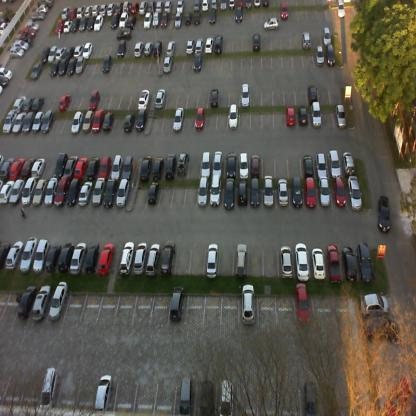car: (385, 375, 412, 413), (363, 314, 401, 340), (355, 238, 375, 284), (39, 366, 58, 414), (31, 282, 52, 322), (48, 280, 68, 321), (16, 283, 38, 320), (94, 374, 114, 414), (326, 240, 342, 285), (294, 281, 310, 325), (20, 234, 38, 273), (241, 281, 256, 327), (70, 238, 88, 275), (294, 239, 310, 280), (359, 293, 390, 314), (341, 244, 358, 282), (4, 240, 24, 272), (32, 237, 49, 274), (169, 284, 185, 323), (119, 238, 135, 276), (160, 239, 176, 276), (145, 242, 162, 276), (218, 379, 234, 415), (97, 243, 114, 276), (178, 374, 192, 414), (303, 378, 318, 414), (347, 176, 362, 212), (377, 195, 391, 233), (84, 242, 100, 275), (279, 243, 293, 280), (45, 240, 61, 272), (58, 241, 75, 271), (311, 245, 325, 280), (54, 177, 70, 207), (200, 378, 213, 414), (206, 242, 219, 278), (133, 242, 147, 275), (236, 240, 248, 278), (332, 175, 346, 207), (102, 178, 116, 209), (139, 152, 153, 182), (21, 178, 36, 206), (290, 175, 302, 209), (209, 174, 221, 208), (303, 178, 316, 209), (44, 174, 57, 205), (225, 148, 237, 180), (116, 180, 130, 207), (54, 150, 68, 177), (40, 109, 54, 136), (9, 154, 24, 179), (1, 110, 16, 135), (224, 176, 235, 210), (318, 177, 330, 208), (328, 148, 341, 176), (164, 152, 177, 180), (122, 154, 136, 180), (78, 179, 91, 207), (32, 178, 46, 204), (10, 179, 24, 205), (73, 154, 88, 178), (66, 176, 78, 206), (147, 180, 160, 207), (92, 177, 105, 204), (0, 180, 14, 205), (171, 106, 185, 131), (90, 109, 104, 134), (315, 149, 327, 178), (197, 177, 208, 208), (264, 172, 274, 206), (70, 109, 83, 135), (98, 155, 112, 179), (1, 156, 15, 180), (335, 101, 347, 129), (238, 149, 249, 179), (0, 240, 11, 270), (177, 150, 189, 177), (342, 150, 355, 174), (152, 154, 164, 180), (86, 155, 99, 179), (310, 102, 322, 128), (101, 110, 114, 134), (31, 111, 44, 135), (250, 177, 260, 208), (237, 179, 248, 207), (136, 88, 150, 110), (302, 152, 314, 177), (64, 153, 77, 176), (277, 177, 288, 204), (154, 87, 166, 111), (21, 156, 34, 178), (194, 106, 205, 132), (81, 110, 94, 132), (11, 112, 24, 134), (22, 111, 35, 133), (200, 150, 210, 178), (32, 156, 46, 176), (285, 102, 295, 129), (240, 80, 250, 107), (228, 102, 238, 129), (58, 92, 70, 114), (212, 150, 222, 176), (112, 154, 122, 180), (250, 152, 260, 177), (326, 40, 336, 65), (191, 52, 202, 74), (298, 101, 308, 125), (134, 112, 146, 132), (88, 90, 100, 110), (66, 57, 78, 77), (116, 26, 132, 41), (30, 61, 42, 80), (161, 54, 173, 73), (263, 16, 279, 30), (123, 114, 134, 134), (57, 56, 68, 76), (134, 39, 145, 59), (203, 36, 214, 56), (302, 30, 312, 52), (74, 58, 86, 76), (252, 31, 261, 55), (10, 46, 25, 60), (46, 45, 57, 64), (101, 55, 112, 74), (279, 1, 290, 20), (93, 13, 104, 32), (12, 96, 24, 113), (308, 84, 318, 104), (49, 60, 60, 78), (315, 44, 324, 66), (31, 96, 44, 111), (0, 66, 13, 81), (14, 38, 30, 50), (116, 41, 126, 60), (214, 34, 223, 55), (54, 46, 67, 60), (21, 25, 36, 37), (83, 40, 93, 58), (184, 38, 194, 56), (194, 36, 204, 54), (336, 1, 346, 19), (118, 10, 128, 28), (210, 86, 218, 108), (30, 12, 46, 23), (166, 40, 176, 57), (69, 2, 79, 19), (20, 34, 34, 46), (207, 8, 216, 26), (110, 12, 119, 30), (62, 3, 71, 21), (72, 43, 82, 59), (76, 2, 86, 18), (26, 19, 39, 31), (152, 40, 161, 57), (233, 7, 242, 24), (143, 12, 151, 31), (126, 14, 136, 29), (84, 1, 94, 16), (323, 22, 330, 43), (41, 46, 49, 64), (161, 12, 169, 30), (152, 10, 160, 28), (23, 97, 33, 111), (64, 45, 74, 59), (63, 20, 73, 34), (92, 0, 100, 17), (55, 19, 64, 34), (79, 16, 88, 31), (37, 3, 49, 14), (174, 13, 182, 29), (107, 2, 116, 16), (130, 1, 139, 15), (139, 2, 148, 16), (88, 14, 95, 32), (144, 41, 152, 56), (193, 11, 201, 26), (155, 0, 163, 15), (71, 17, 79, 32), (185, 10, 192, 27), (99, 1, 107, 15), (146, 1, 155, 13), (164, 1, 172, 14), (38, 0, 52, 7), (122, 0, 130, 12), (202, 0, 210, 12), (219, 0, 227, 12), (0, 76, 8, 88), (244, 0, 252, 11), (177, 1, 184, 13), (252, 0, 262, 8), (194, 0, 201, 11), (229, 0, 235, 12), (211, 0, 218, 10), (115, 1, 120, 14), (236, 0, 244, 7), (262, 0, 269, 8)
